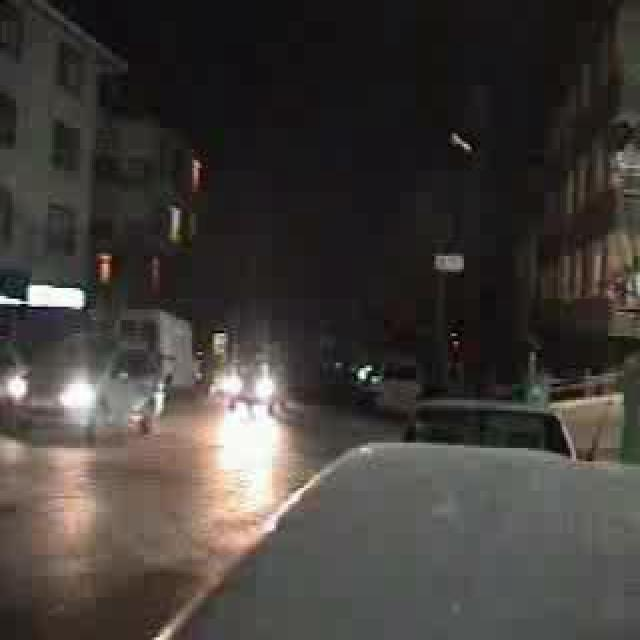other: (0, 354, 108, 426), (216, 401, 274, 508), (210, 361, 288, 418)
